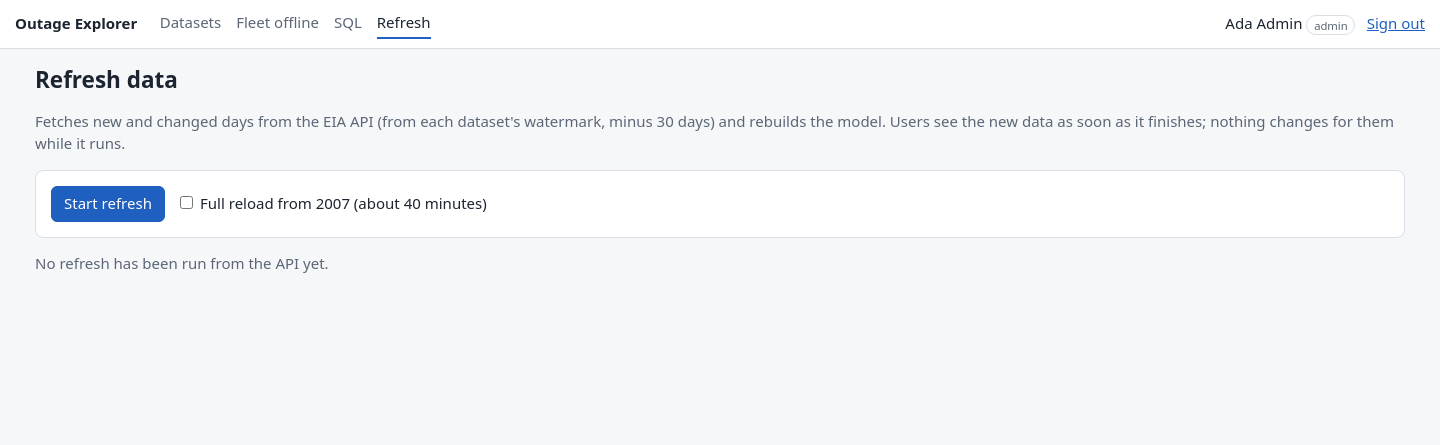
Test: refresh (US-06) › offers to follow the refresh that is already running
Click the button "Start refresh" at coordinates (108, 204), box [51,186,165,222]
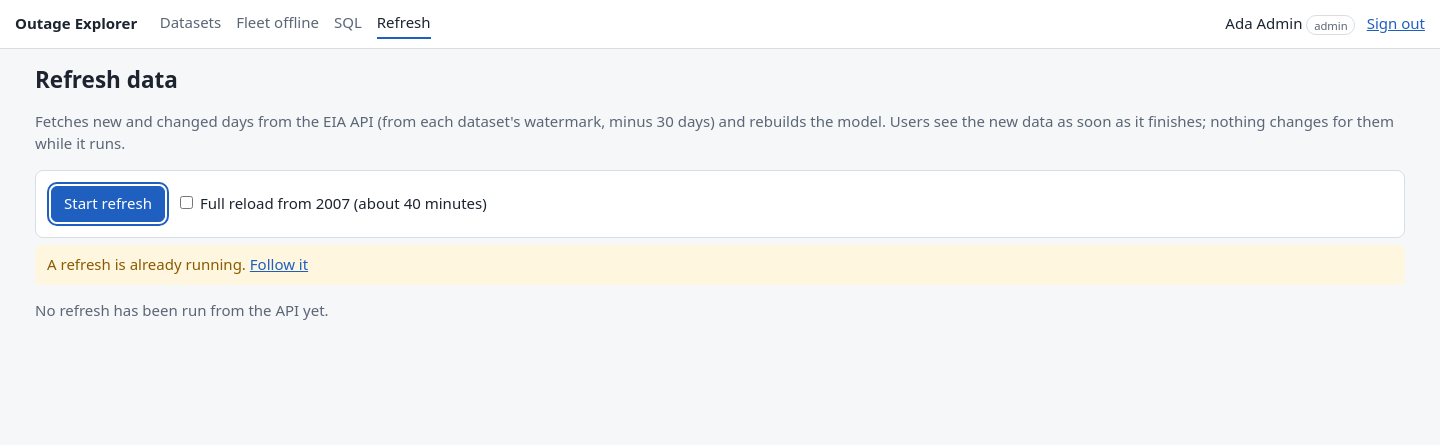
Click the button "Follow it" at coordinates (279, 265), box [250,254,308,276]
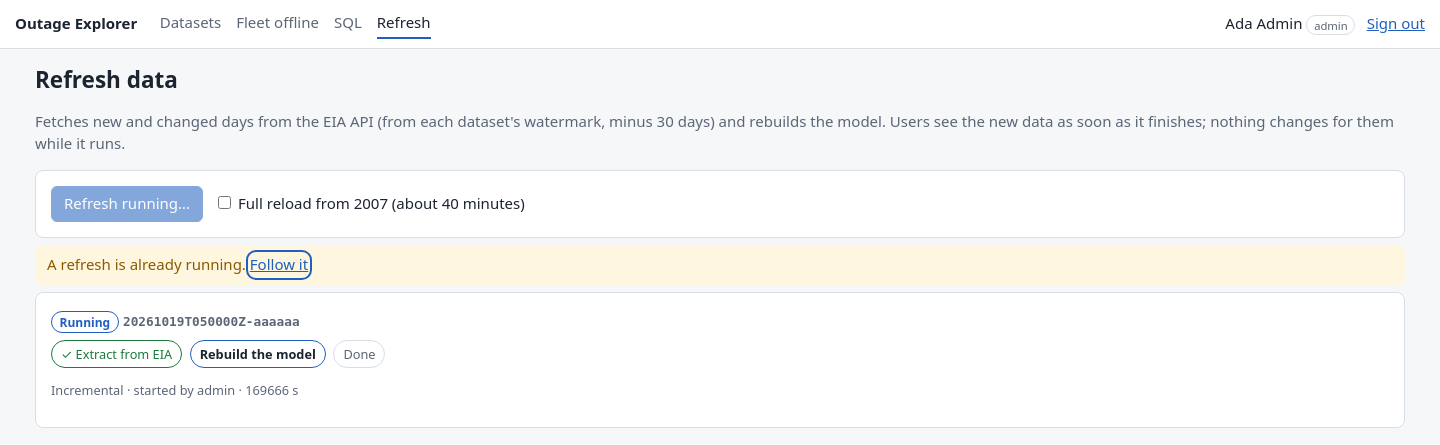
Check: the text "Running" is shown, box [51,311,119,333]
